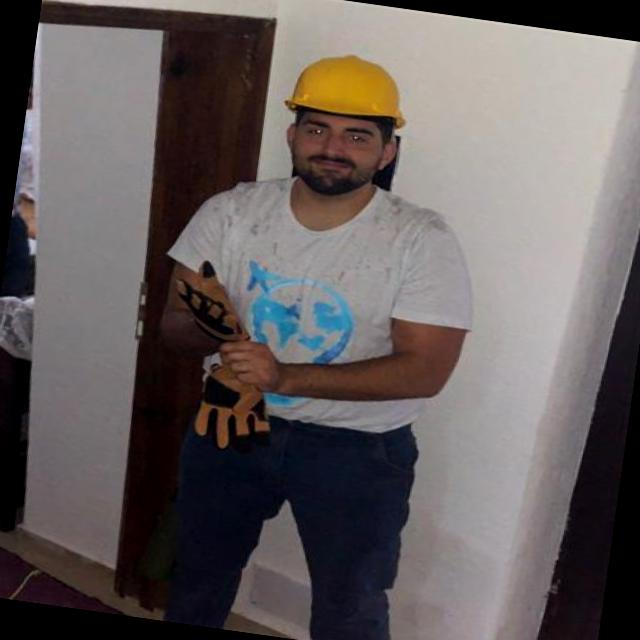helmet: (271, 47, 419, 147)
no-goggles: (270, 109, 397, 160)
no-vest: (148, 158, 492, 452)
